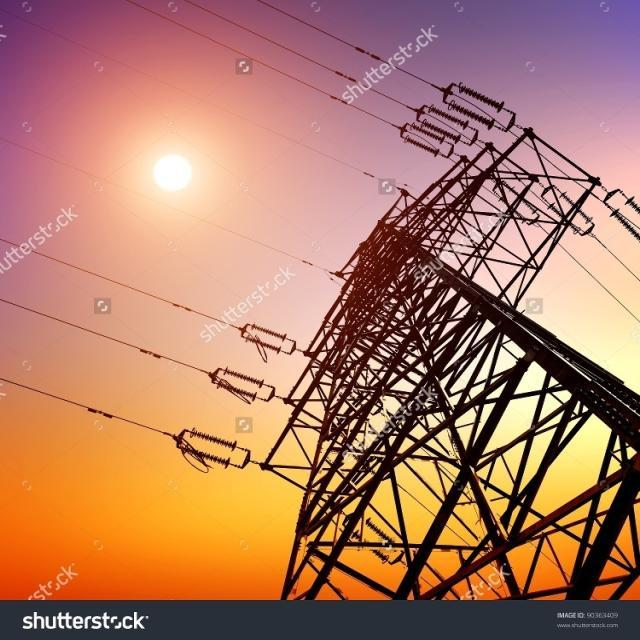non-critical vegetation: (266, 155, 637, 588)
